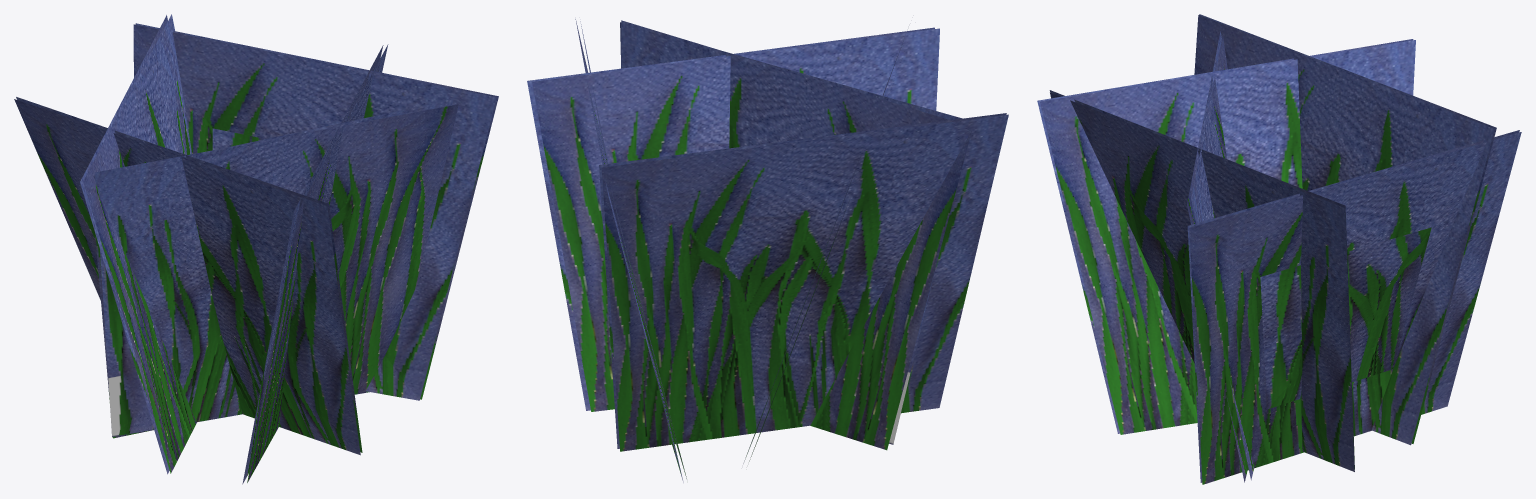
The model's file is tuft.obj.
3 views of the same model, side by side, from view 1: azimuth 30°, elevation 25°; view 2: azimuth 150°, elevation 25°; view 3: azimuth 270°, elevation 25° (orthographic). The views are drawn at different scales.
Visible parts, largest first — view 1: Plane; view 2: Plane; view 3: Plane.
Part boxes in pixels (left/top/right/bottom): Plane: left=14, top=14, right=498, bottom=484; Plane: left=527, top=19, right=1008, bottom=482; Plane: left=1037, top=14, right=1521, bottom=484.
Bounding box in the file's own units: 2.38 × 1.68 × 2.4.
